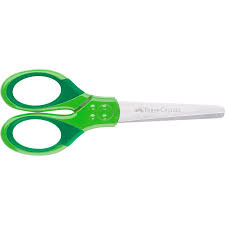tihiras: (2, 65, 225, 167)
